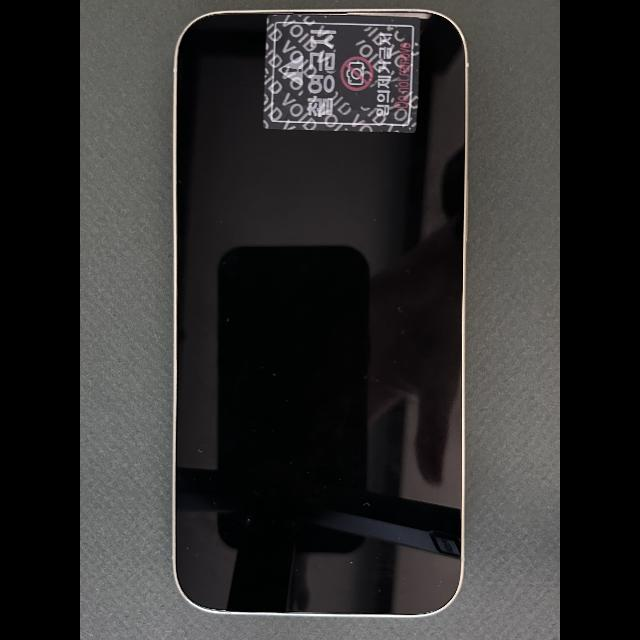phone: (173, 10, 469, 617)
sticker: (262, 14, 421, 133)
